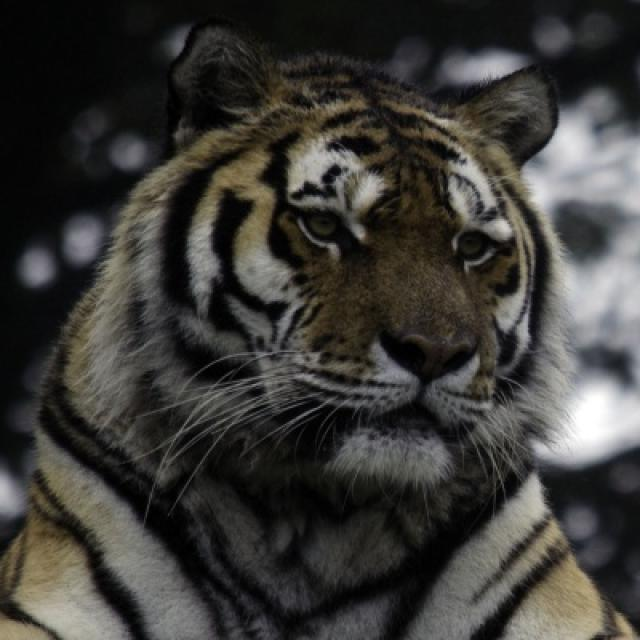Tiger: (0, 22, 638, 638)
